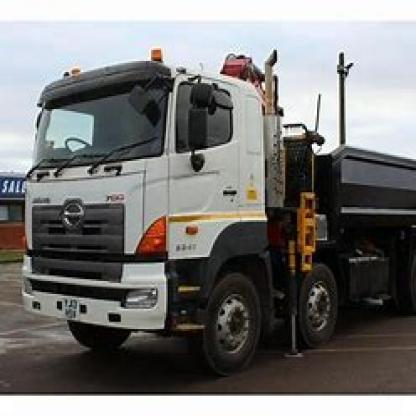dump_truck: (19, 44, 414, 362)
